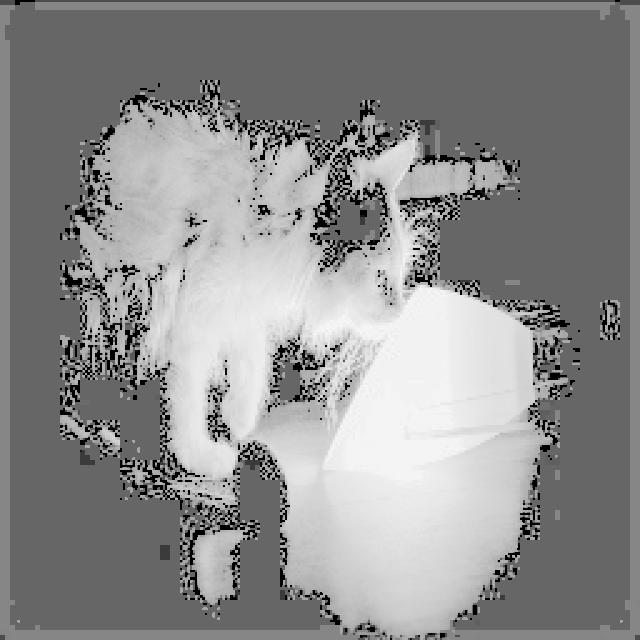cat: (39, 102, 422, 534)
